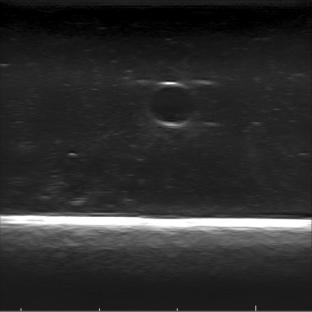vessel: (145, 82, 200, 130)
